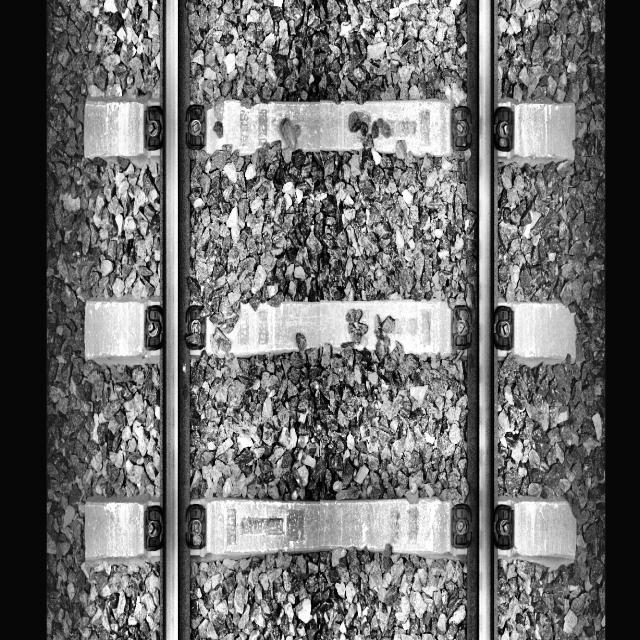Clips: (493, 505, 519, 554), (141, 104, 165, 153), (494, 305, 517, 352), (184, 505, 207, 552), (142, 303, 164, 351), (185, 106, 208, 151), (144, 506, 165, 553), (453, 106, 472, 156), (450, 504, 472, 546), (453, 305, 471, 355), (184, 309, 206, 348), (496, 109, 515, 152)
Sleepers: (84, 90, 578, 175), (83, 289, 580, 370), (82, 492, 578, 570)
